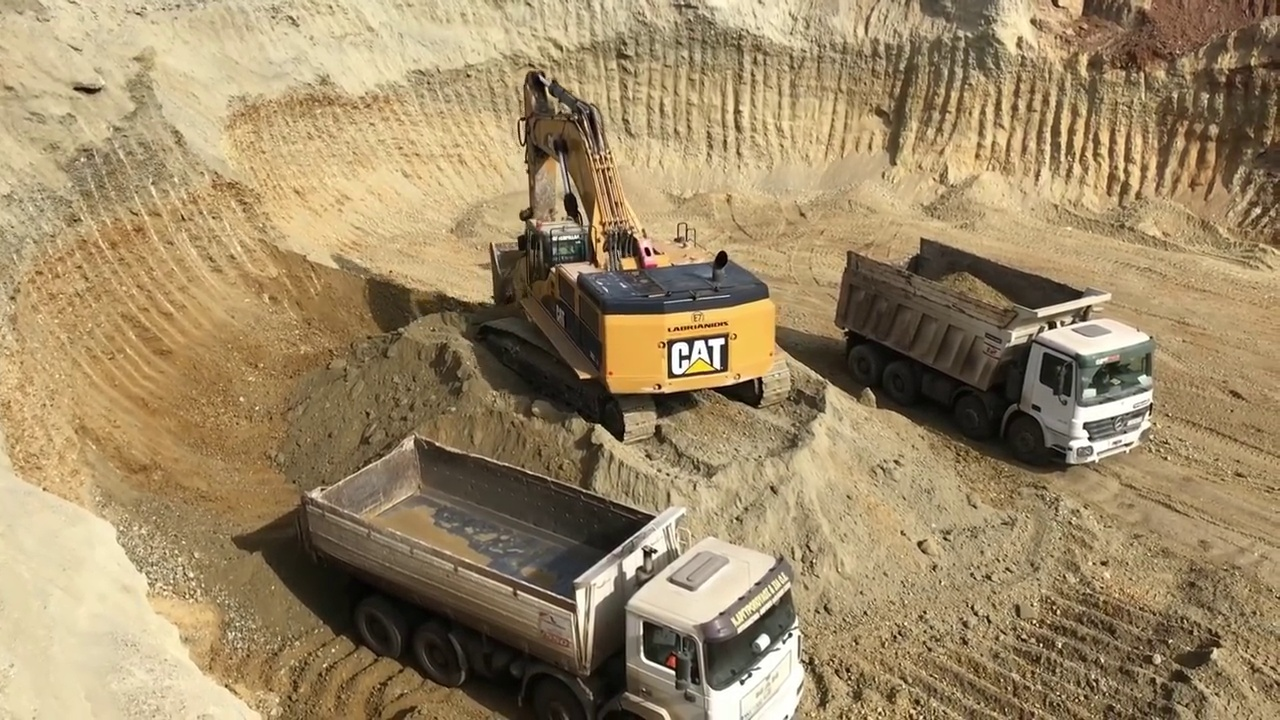excavator: (491, 60, 795, 439)
truck: (295, 437, 812, 720), (838, 235, 1155, 472)
